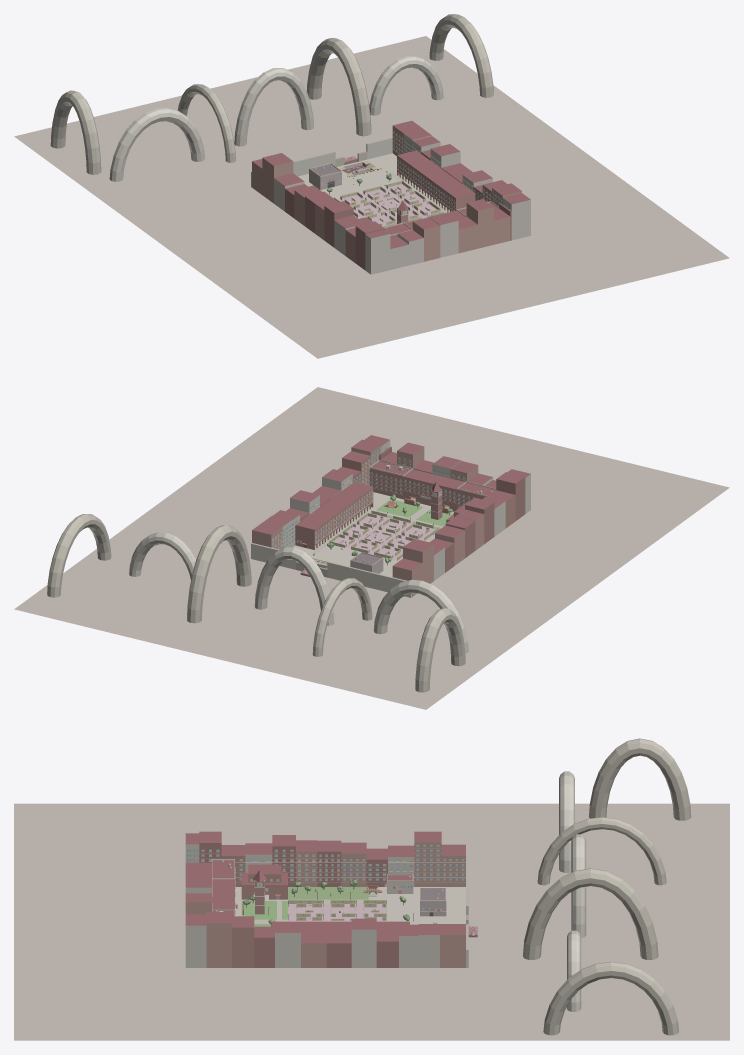
File: MedulaOssea.glb
3 views of the same model, one above another, from view 1: azimuth 30°, elevation 25°; view 2: azimuth 150°, elevation 25°; view 3: azimuth 270°, elevation 25° (orthographic). The views are drawn at different scales.
Visible parts, largest first — view 1: perimetro.00, chao.00, academia.00, fratura.00, cidade_papelao.00, praca_norte.00; view 2: perimetro.00, chao.00, base_celulas.00, academia.00, fratura.00, cidade_papelao.00, praca_norte.00, gramado.00; view 3: perimetro.00, chao.00, base_celulas.00, bercario.00, cidade_papelao.00, canal.00, praca_norte.00, academia.00, gramado.00.
Boxes of the visible parts, box(x1,y1,x2,y2) form: perimetro.00: box(14, 14, 729, 358); chao.00: box(298, 153, 447, 226); academia.00: box(397, 150, 475, 212); fratura.00: box(251, 137, 392, 187); cidade_papelao.00: box(334, 181, 443, 227); praca_norte.00: box(309, 163, 404, 194); perimetro.00: box(14, 387, 729, 709); chao.00: box(292, 492, 453, 576); base_celulas.00: box(369, 460, 496, 513); academia.00: box(295, 482, 373, 549); fratura.00: box(251, 543, 411, 597); cidade_papelao.00: box(329, 510, 439, 560); praca_norte.00: box(313, 537, 391, 573); gramado.00: box(377, 482, 453, 519); perimetro.00: box(14, 738, 729, 1040); chao.00: box(235, 887, 465, 926); base_celulas.00: box(212, 859, 243, 916); bercario.00: box(241, 864, 287, 899); cidade_papelao.00: box(287, 900, 386, 921); canal.00: box(291, 874, 413, 899); praca_norte.00: box(399, 887, 446, 921); academia.00: box(271, 921, 409, 931); gramado.00: box(243, 870, 283, 926).
Bounding box in the file's own units: 340 × 61.95 × 434.
